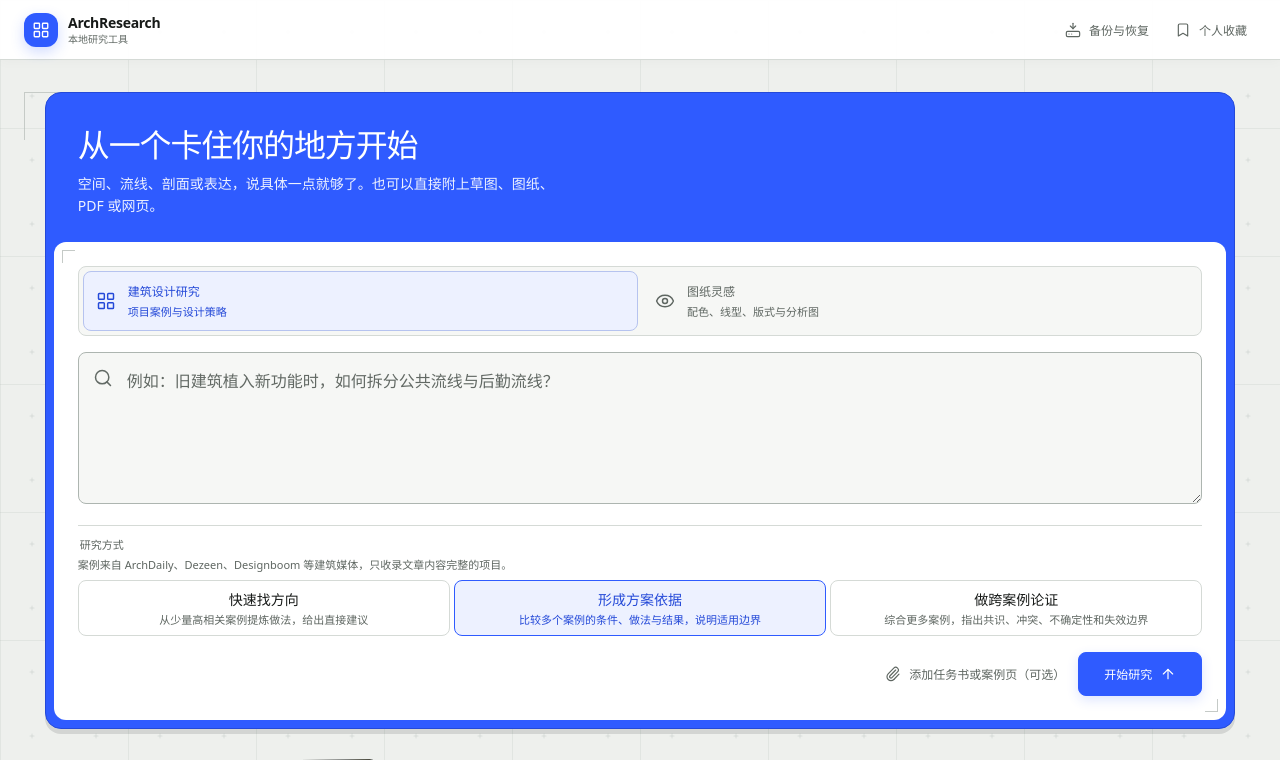
Scenario: research board › returns from a research result to the problem-first home
The width and height of the screenshot is (1280, 760).
Type "旧厂房如何植入展厅？" into the text box named "研究问题".
click(640, 428); type("旧厂房如何植入展厅？")  # box [78,352,1202,504]
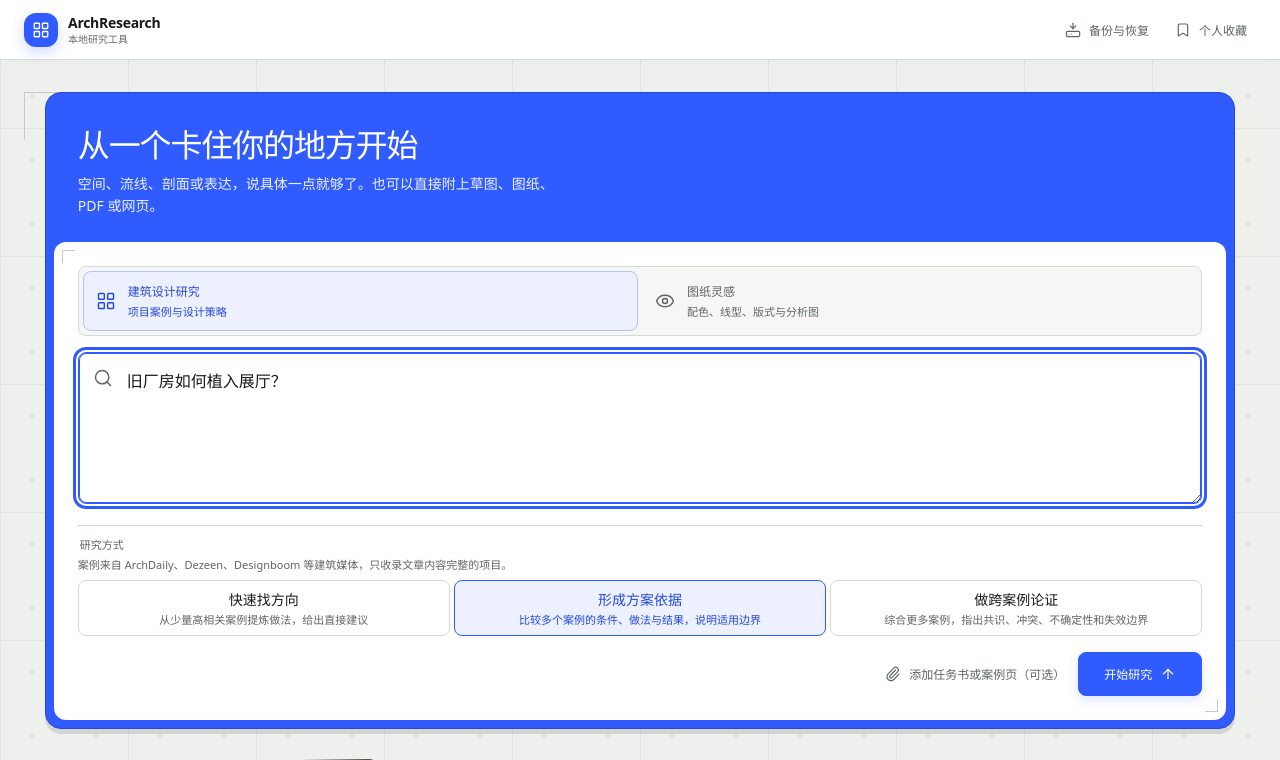
Click the button "开始研究".
click(1140, 674)  # box [1078,652,1202,696]
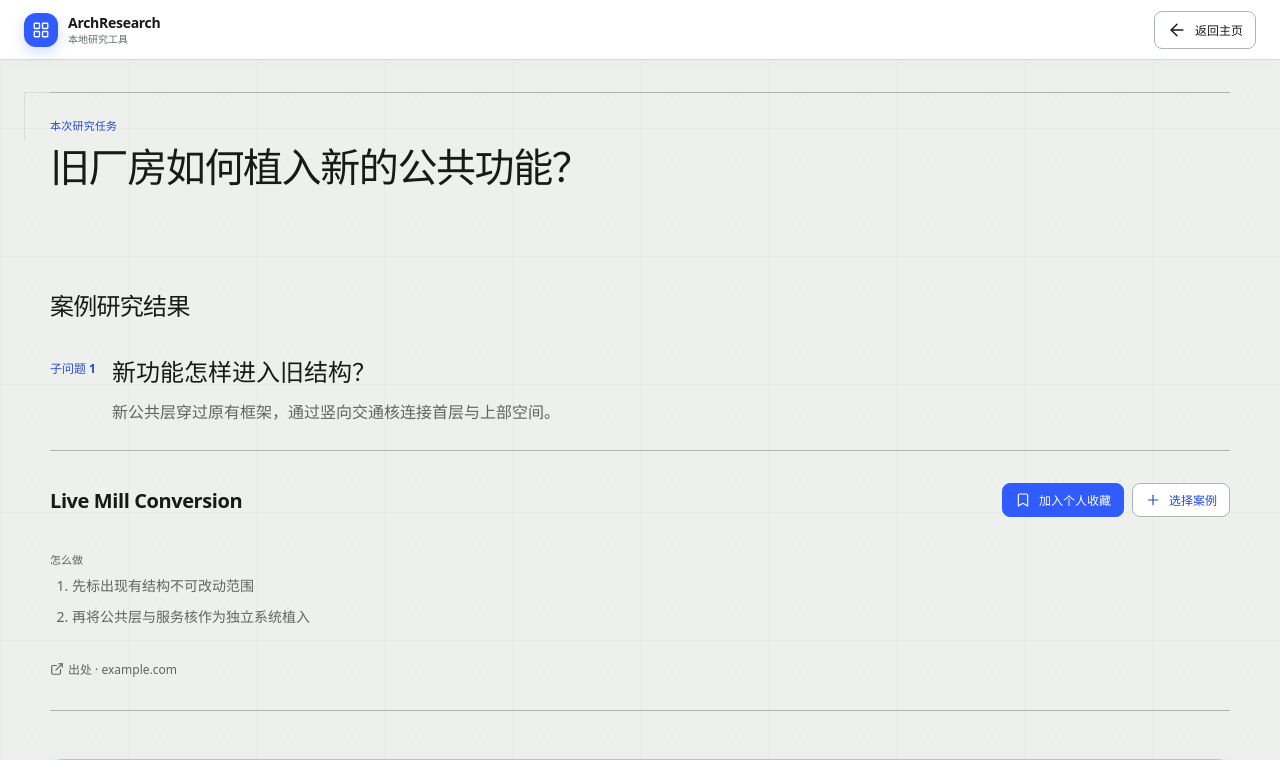
Expected: the element "研究结果" is shown
Expected: the number of buttons "返回主页" is 1
Click the button "返回主页".
click(1205, 30)  # box [1154,10,1256,48]
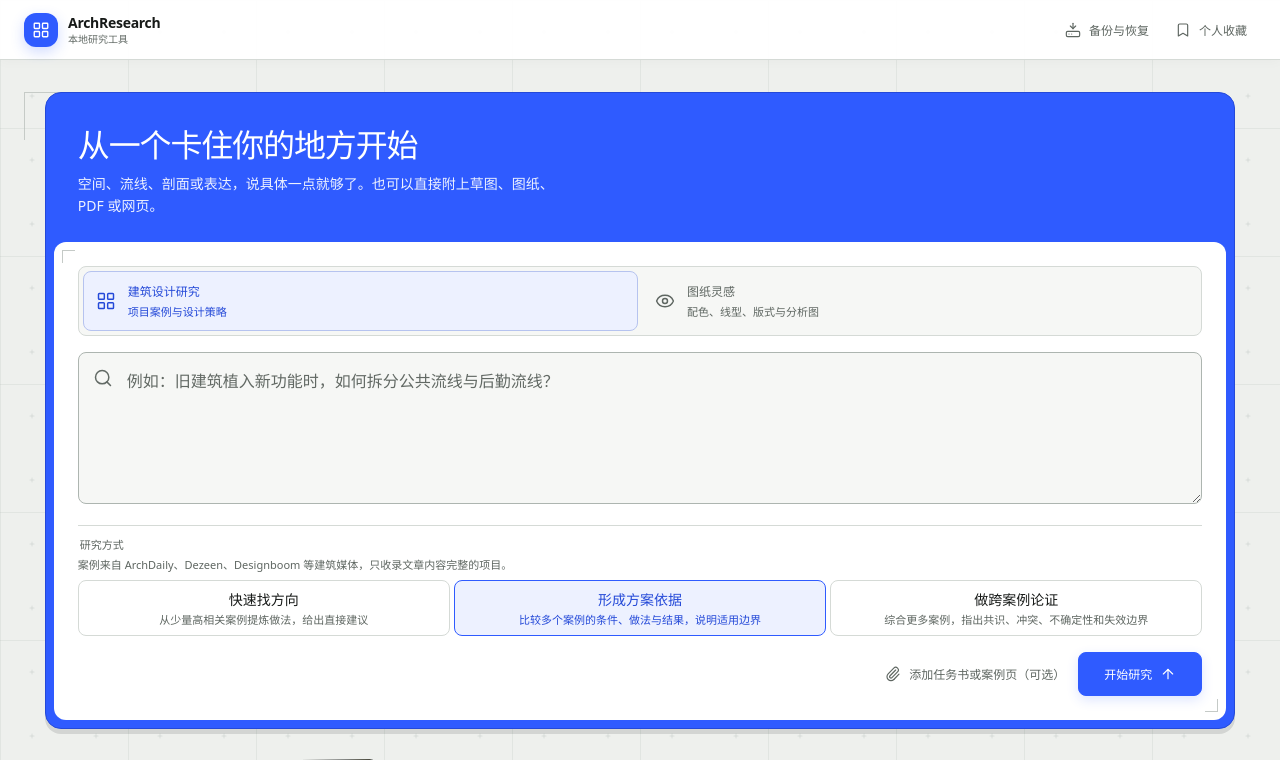
Expected: the button "个人收藏" is shown, [1166,12,1256,46]
Expected: the heading "研究结果" is gone
Expected: the element named "新建研究" is shown
